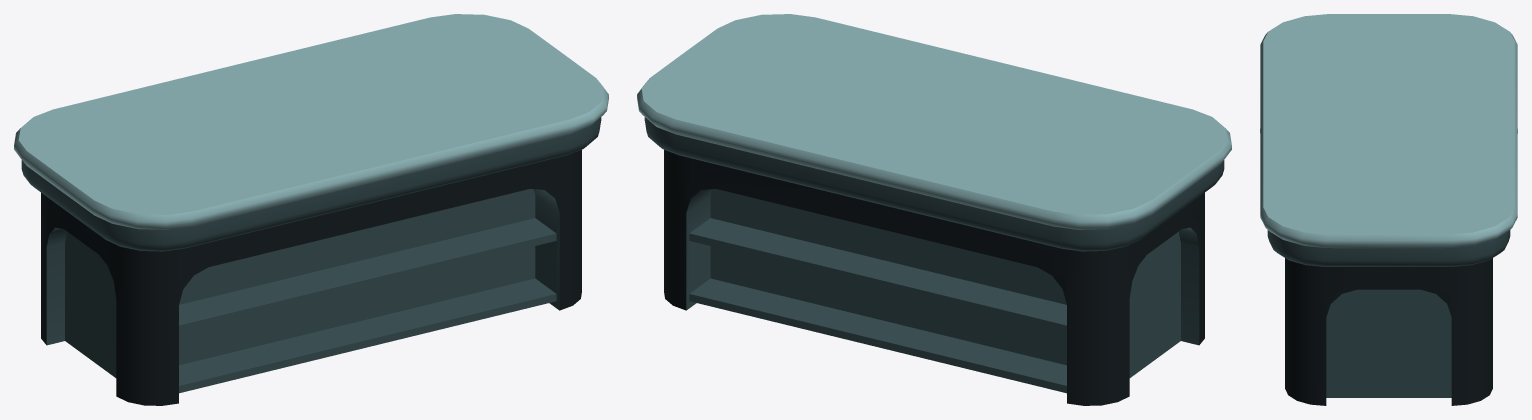
File: FI_033_table.glb
3 renders of one model, left to right at view 1: azimuth 30°, elevation 25°; view 2: azimuth 150°, elevation 25°; view 3: azimuth 270°, elevation 25°, orthographic. The views are drawn at different scales.
Parts seen in each view (by area): view 1: table; view 2: table; view 3: table.
Boxes of the visible parts, bbox=[...] form: table: bbox=[14, 14, 608, 405]; table: bbox=[637, 14, 1231, 405]; table: bbox=[1260, 14, 1517, 405].
Size of the model in its own units: 2.98 by 1.12 by 1.46.
